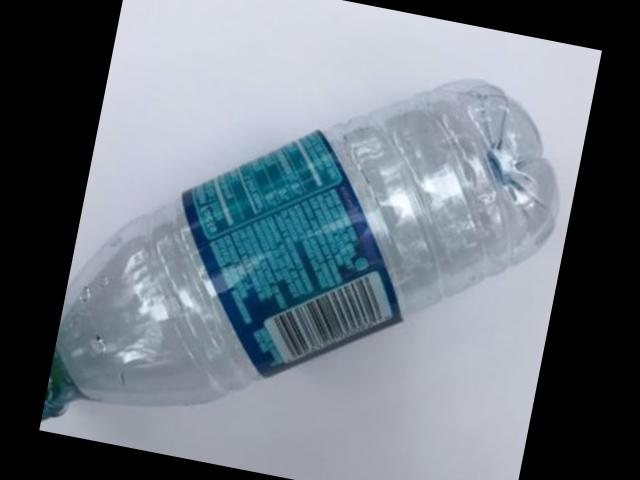plastic: (41, 77, 556, 415)
